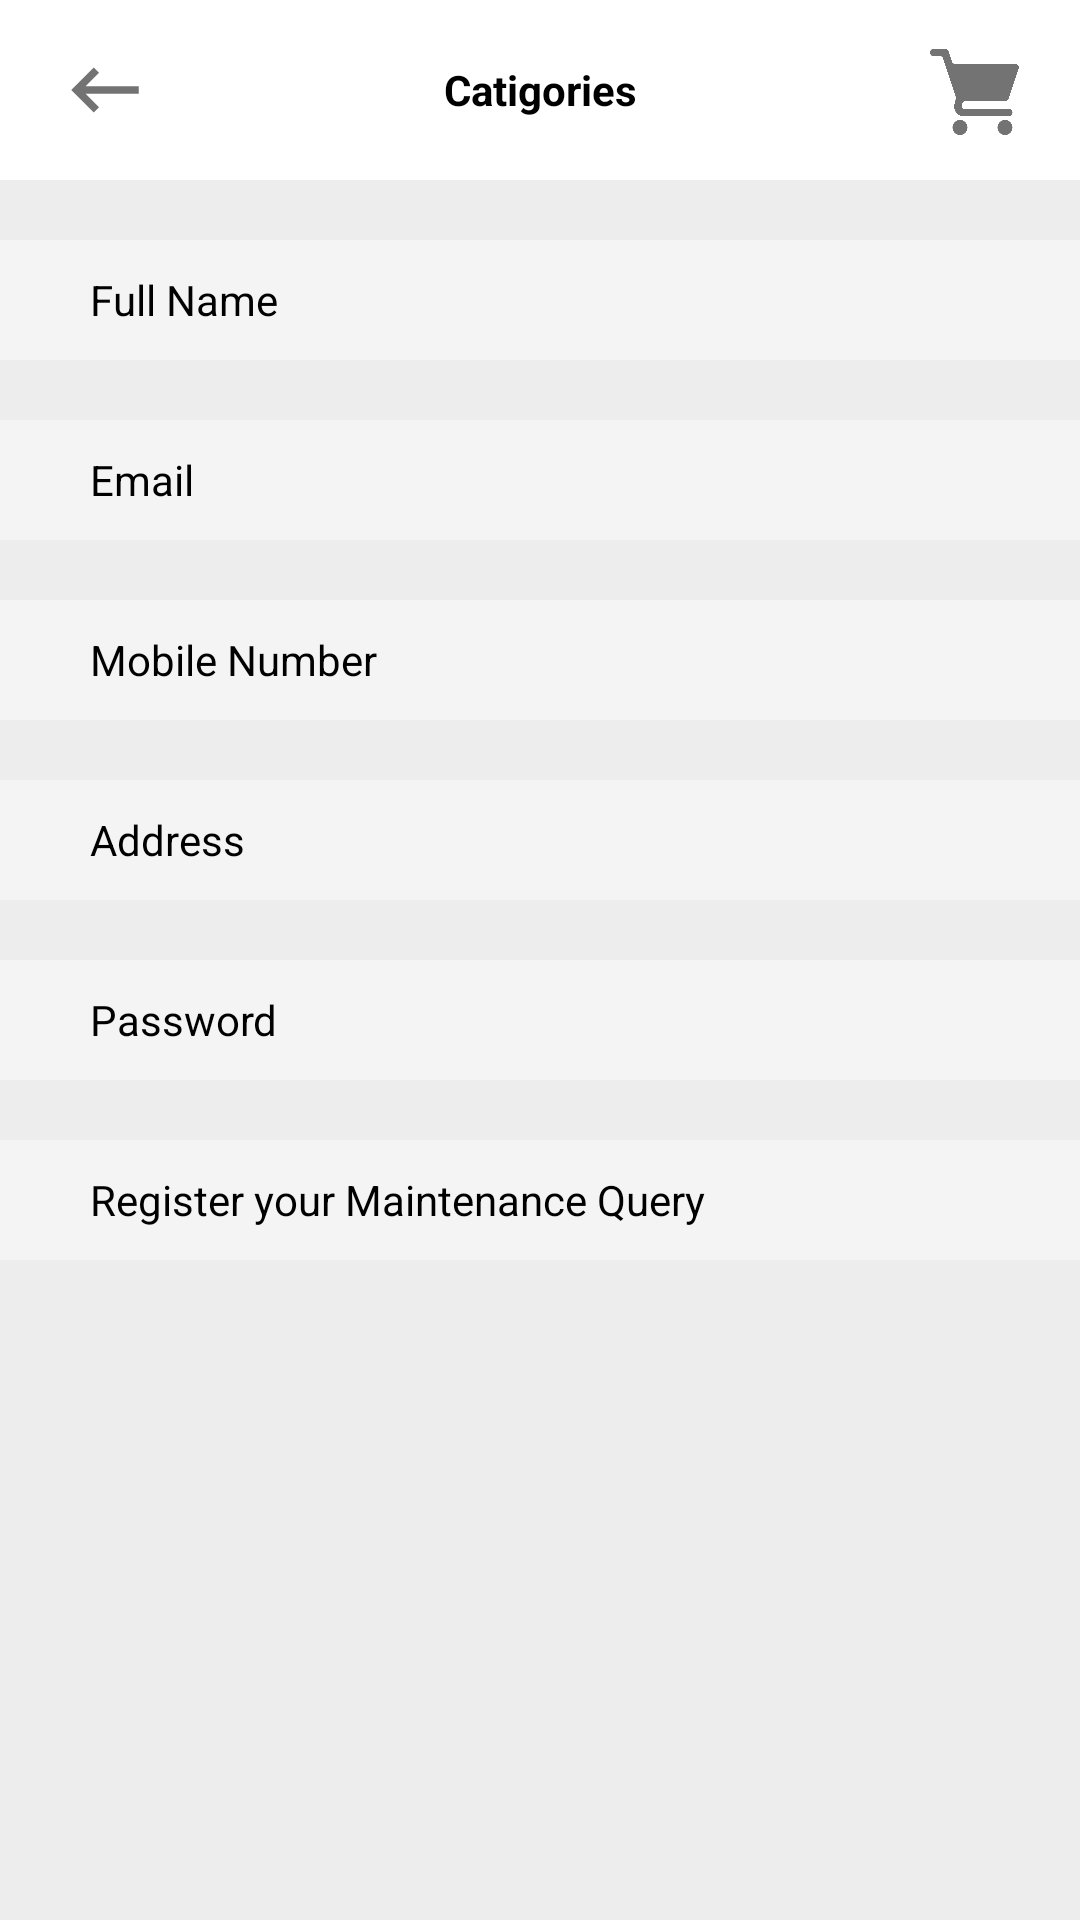

Named icons in this screenshot (1080×1920) and their centers, (x=x, y=y):
grocery store: (x=974, y=92)
